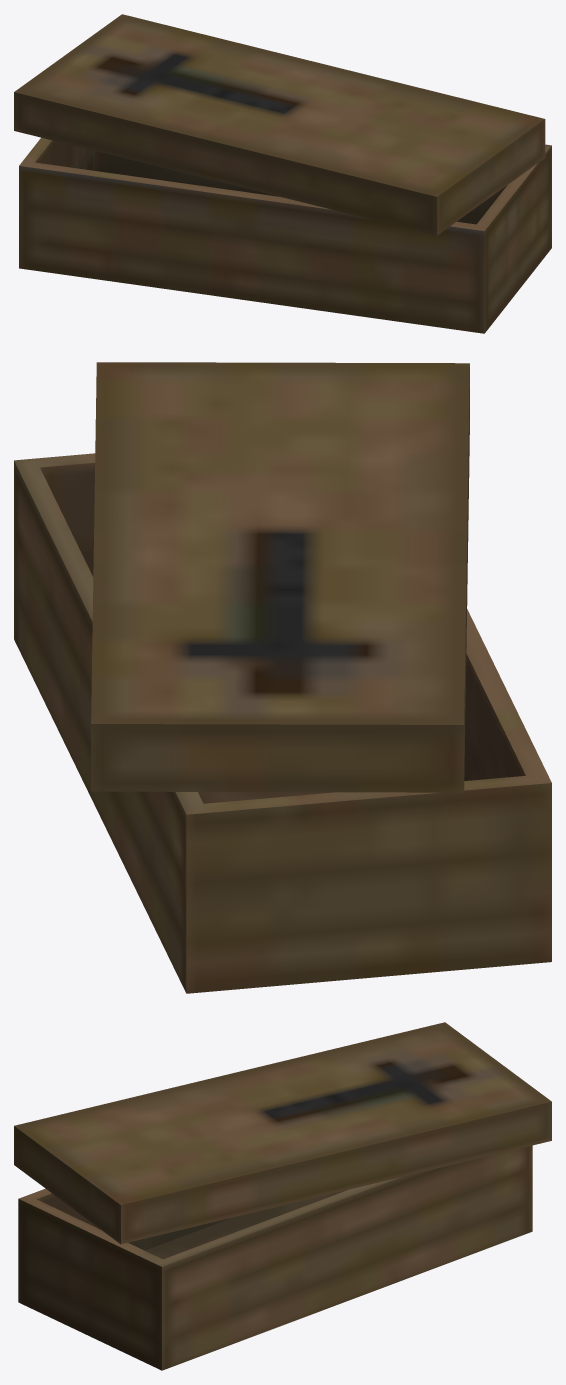
The model's file is coffin_01 (1) #717923.fbx.
3 views of the same model, one above another, from view 1: azimuth 30°, elevation 25°; view 2: azimuth 150°, elevation 25°; view 3: azimuth 270°, elevation 25° (orthographic). The views are drawn at different scales.
Parts seen in each view (by area): view 1: coffin_01_cap, coffin_01; view 2: coffin_01_cap, coffin_01; view 3: coffin_01_cap, coffin_01.
Part boxes in pixels (x1=…): coffin_01_cap: x1=14, y1=14, x2=545, y2=235; coffin_01: x1=19, y1=137, x2=551, y2=333; coffin_01_cap: x1=91, y1=362, x2=469, y2=792; coffin_01: x1=14, y1=453, x2=551, y2=993; coffin_01_cap: x1=14, y1=1022, x2=551, y2=1244; coffin_01: x1=18, y1=1145, x2=532, y2=1370.
Size of the model in its own units: 2.41 by 0.8254 by 2.64.
